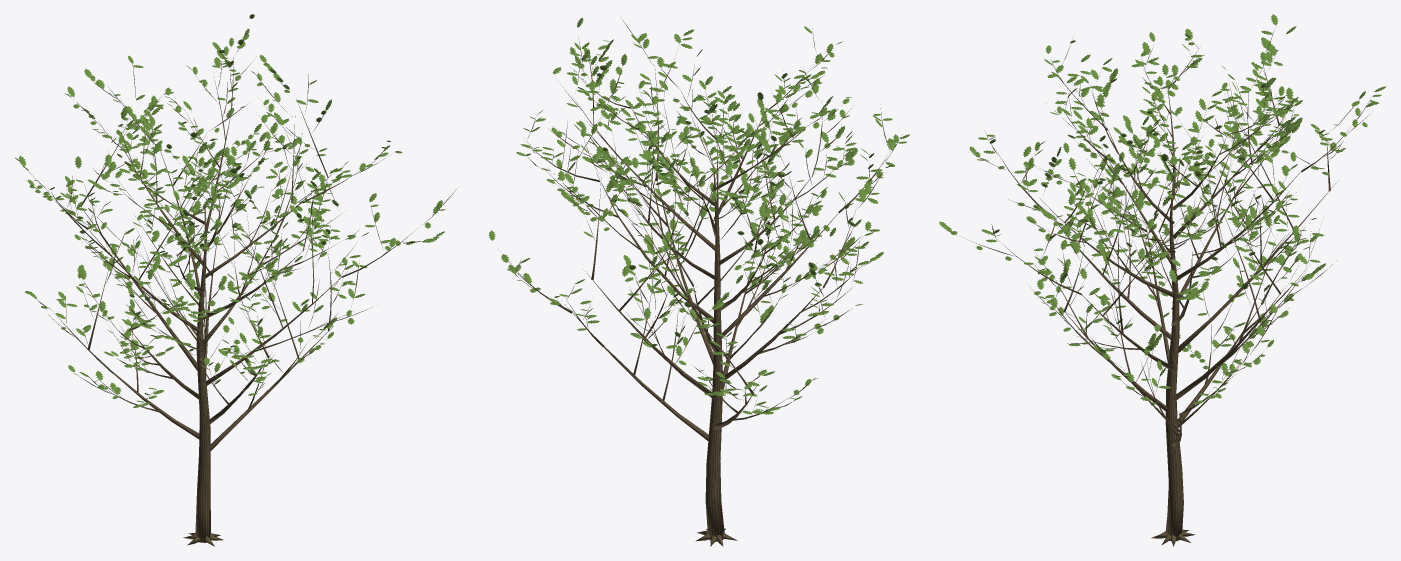
Rendered from Sessile_Oak_Mature_02_Unpruned_LOD2.fbx.
The picture shows the model from 3 angles, left to right: view 1: azimuth 30°, elevation 25°; view 2: azimuth 150°, elevation 25°; view 3: azimuth 270°, elevation 25°; orthographic projection. The views are drawn at different scales.
Visible parts, largest first — view 1: Sessile_Oak_Mature_02_Unpruned_LOD2; view 2: Sessile_Oak_Mature_02_Unpruned_LOD2; view 3: Sessile_Oak_Mature_02_Unpruned_LOD2.
Part boxes in pixels (<box>): Sessile_Oak_Mature_02_Unpruned_LOD2: <box>14,14,458,546</box>; Sessile_Oak_Mature_02_Unpruned_LOD2: <box>489,17,910,546</box>; Sessile_Oak_Mature_02_Unpruned_LOD2: <box>939,14,1386,546</box>.
Bounding box in the file's own units: 1592 × 2201 × 1710.
Materials: 2 (1 with a texture image).
